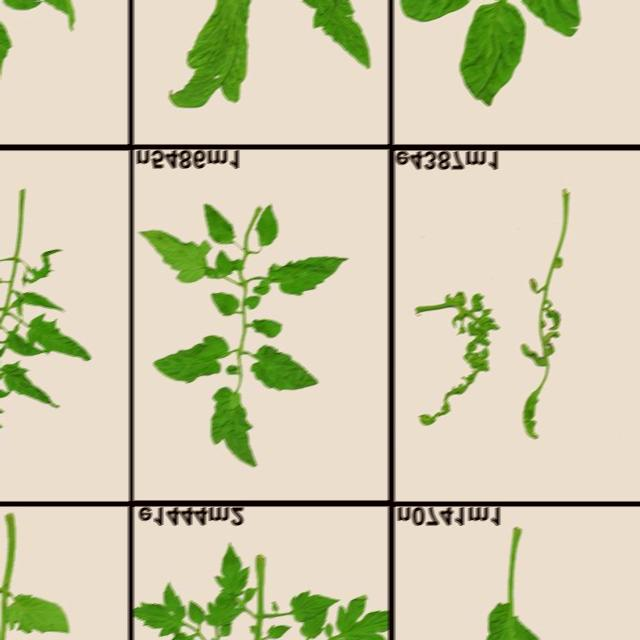Tomato leaf: (423, 598, 579, 640), (209, 378, 252, 483), (0, 581, 86, 633), (239, 343, 328, 392), (0, 396, 15, 484)
